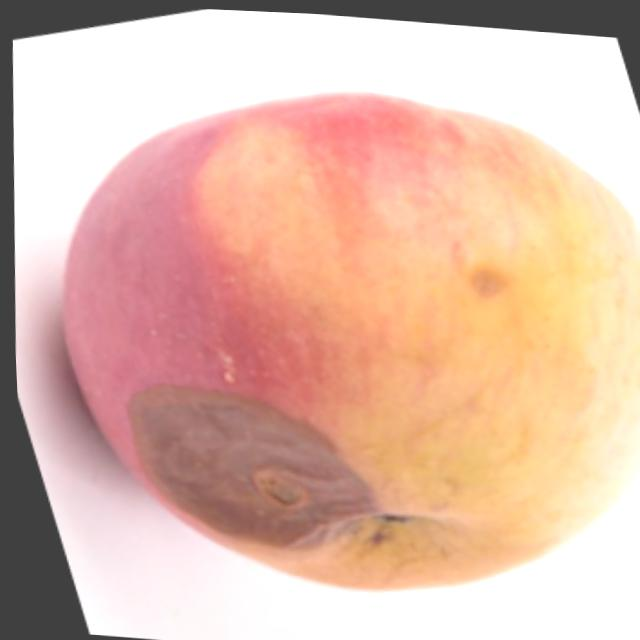organik: (30, 73, 640, 629)
